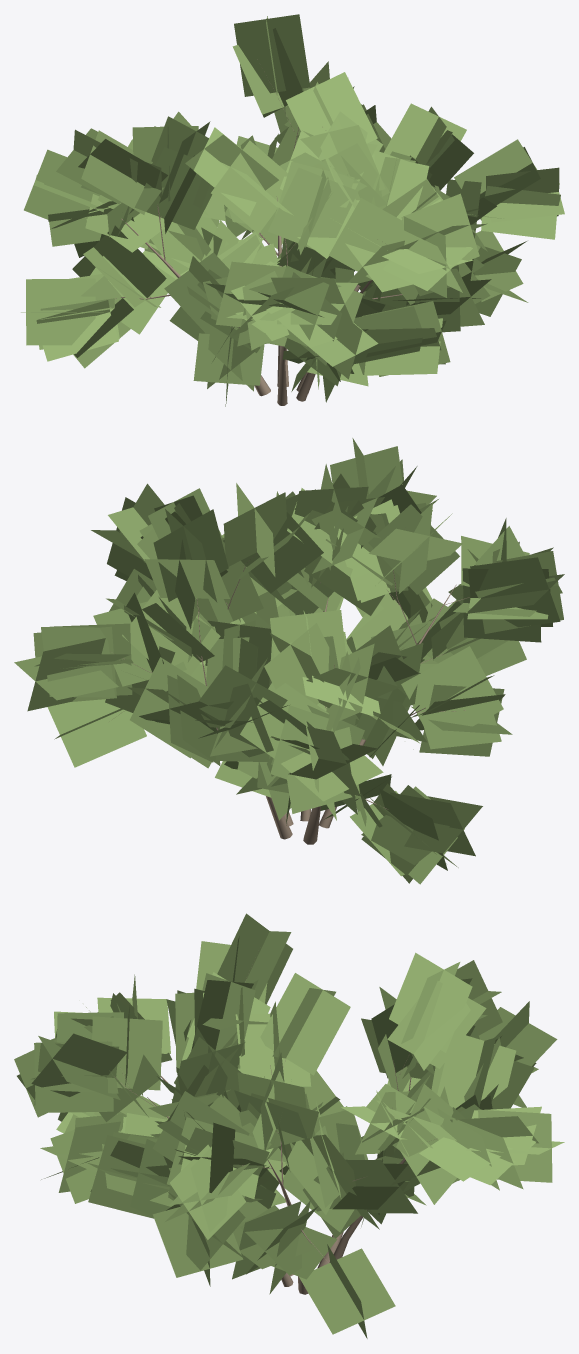
Rendered from Hazel_2_lod0.glb.
3 renders of one model, top to bottom at view 1: azimuth 30°, elevation 25°; view 2: azimuth 150°, elevation 25°; view 3: azimuth 270°, elevation 25°, orthographic. The views are drawn at different scales.
Parts seen in each view (by area): view 1: Hazel_2_lod0; view 2: Hazel_2_lod0; view 3: Hazel_2_lod0.
Boxes of the visible parts, x1=… form: Hazel_2_lod0: x1=21, y1=14, x2=564, y2=406; Hazel_2_lod0: x1=14, y1=438, x2=564, y2=884; Hazel_2_lod0: x1=14, y1=913, x2=564, y2=1338.
Bounding box in the file's own units: 3.73 × 2.66 × 3.81.
